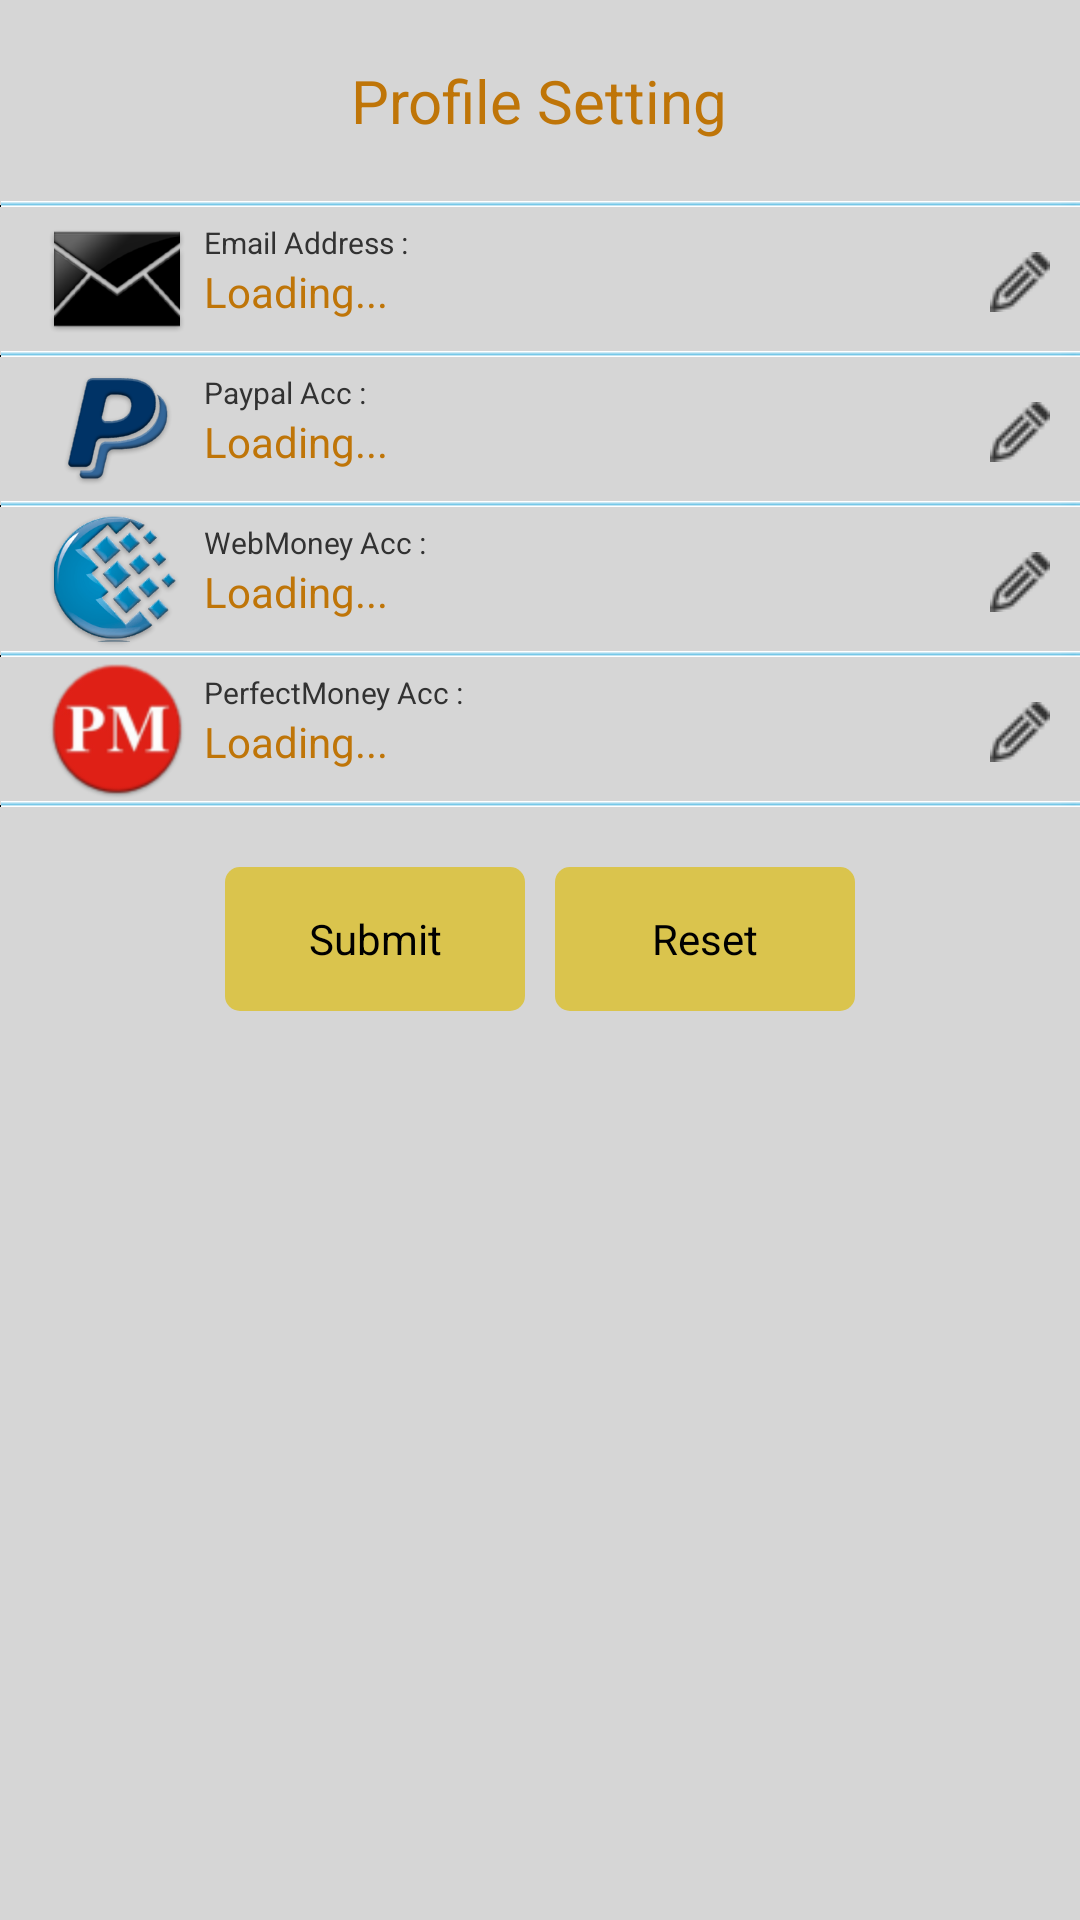

Named icons in this screenshot (1080px×1920px) and their centers, [x,y]:
edit: [1020,282], [1020,432], [1020,582], [1020,732]
mailicon: [117,280]
